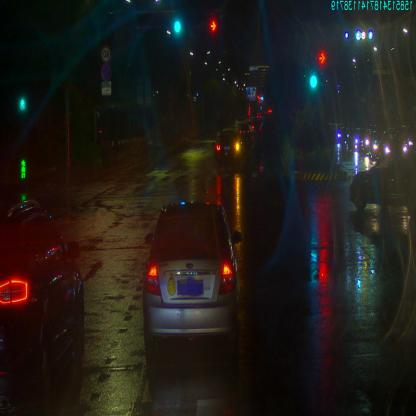traffic-light: (210, 18, 218, 30), (174, 21, 181, 34)
